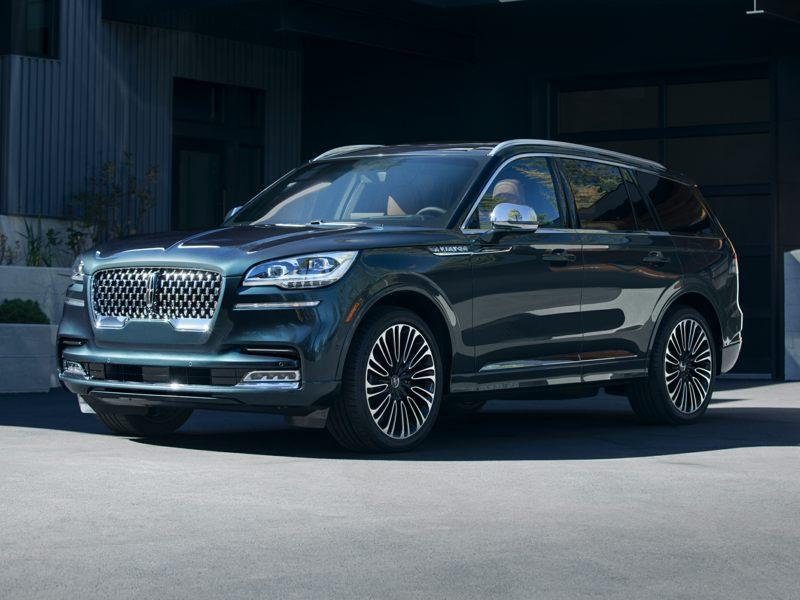lincoln: (141, 272, 161, 313)
